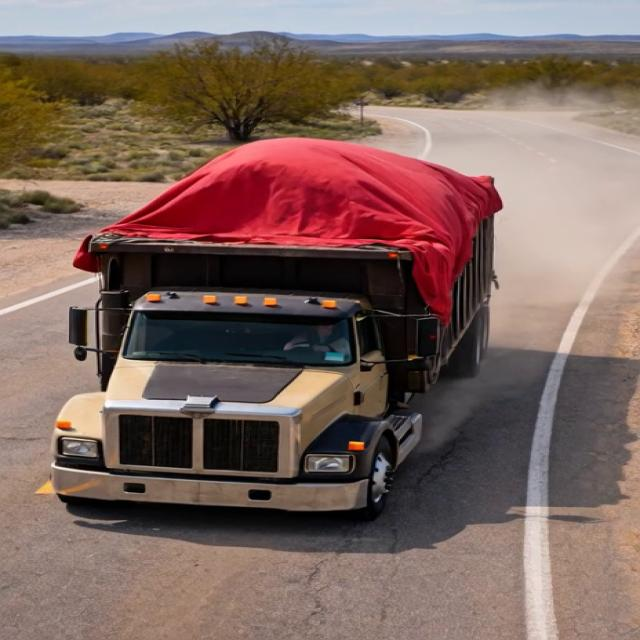trailer: (63, 131, 526, 252)
truck: (34, 101, 548, 523)
